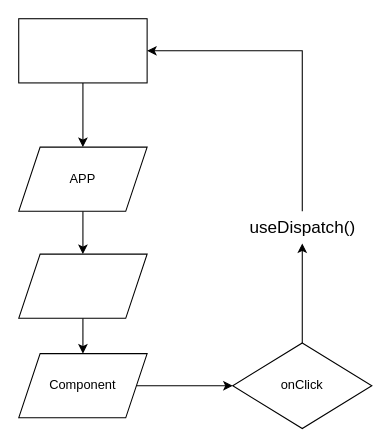
Some shapes in this 391 by 447 pixel diagram are drawn without their labels. The box of each missing label's shape, as (x1, y1, x2, y2) in pixels:
Page: (18, 253, 147, 318)
Store: (18, 18, 147, 83)
